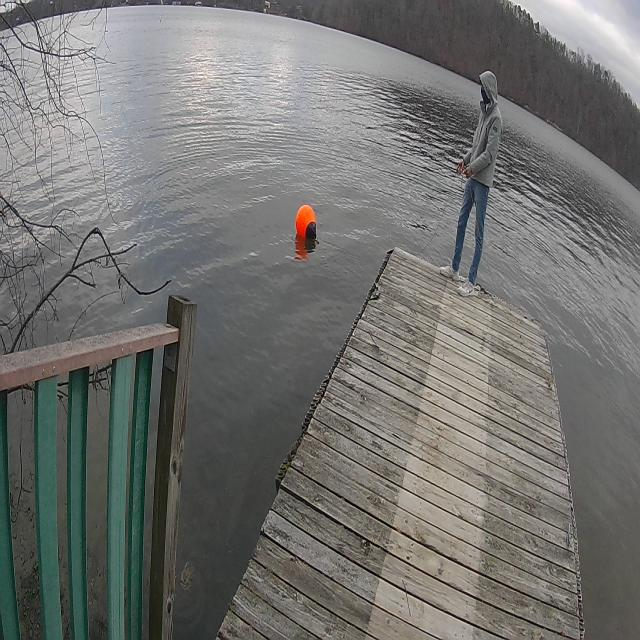Buoy: (293, 195, 320, 248)
